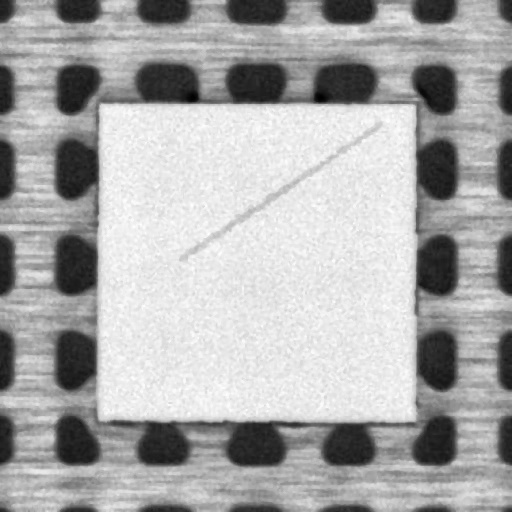DIE_CRACK: (178, 123, 380, 259)
